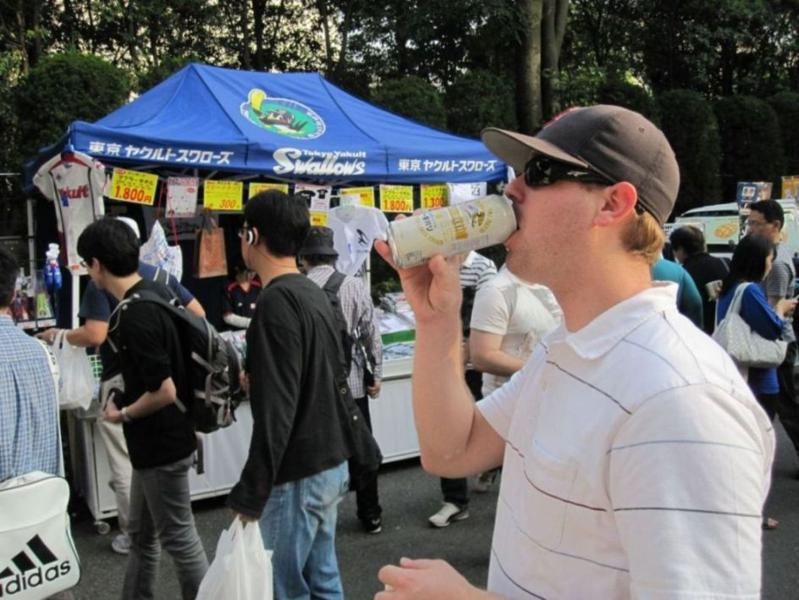person: (373, 105, 780, 600)
